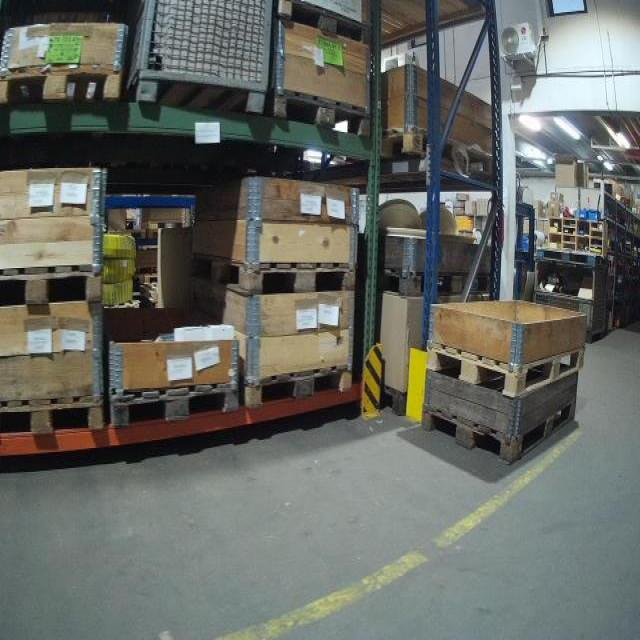pallet: (418, 395, 574, 462), (423, 341, 585, 400), (190, 253, 357, 296), (111, 382, 243, 431), (0, 59, 118, 107), (268, 89, 372, 141), (244, 365, 357, 411), (0, 262, 104, 310), (1, 392, 104, 439), (274, 1, 374, 48), (382, 264, 493, 297), (379, 120, 425, 161)
stillage: (117, 1, 277, 129), (538, 261, 608, 340)
